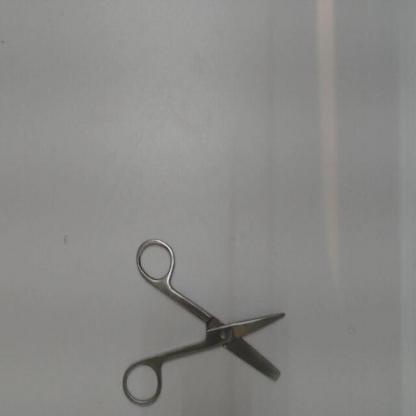Dressing Scissors: (115, 229, 299, 412)
